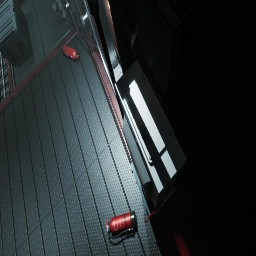FireExtinguisher ]: (104, 211, 136, 239), (61, 44, 80, 60)
SafetySwitchPanel ,: (115, 59, 187, 223)
